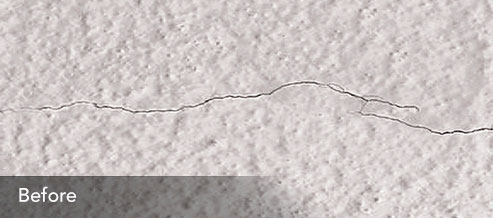crack: (0, 78, 492, 135)
